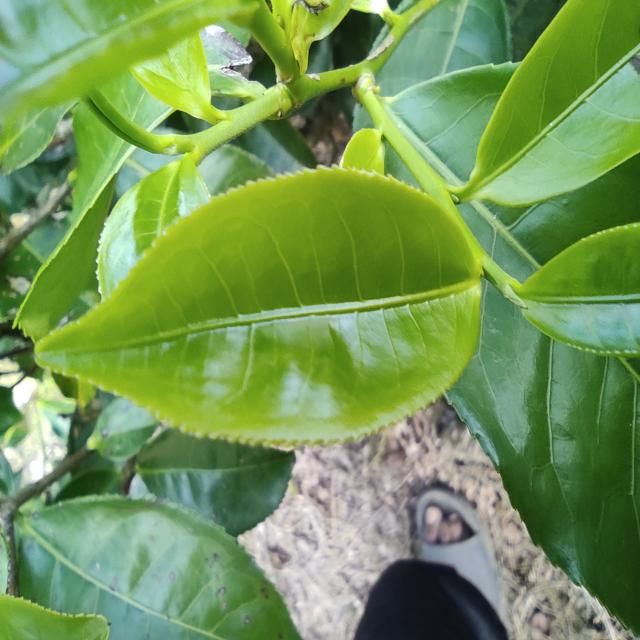Category B 2-4 days: (27, 160, 495, 454)
